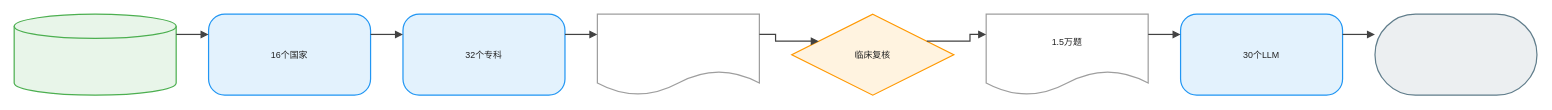
Image size: 1552x110. Some labels were removed from this diagram. Each missing label, with the box of its shape:
医学院: (13, 13, 176, 95)
开放/选择题: (596, 13, 760, 95)
正确/偏差: (1374, 13, 1537, 95)
